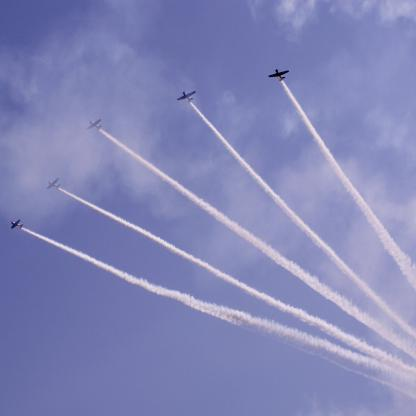aircraft: (265, 64, 294, 82), (5, 211, 27, 234), (82, 115, 107, 132), (174, 86, 198, 103), (42, 176, 65, 189)
